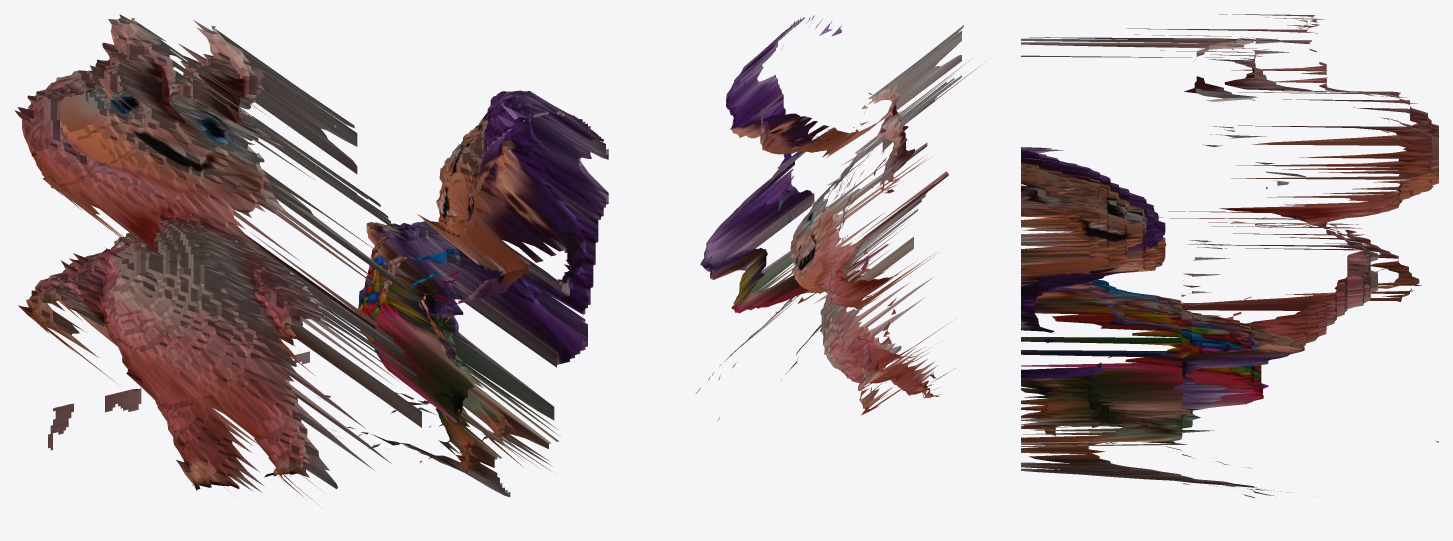
Rendered from frame_00094.glb.
3 views of the same model, side by side, from view 1: azimuth 30°, elevation 25°; view 2: azimuth 150°, elevation 25°; view 3: azimuth 270°, elevation 25° (orthographic). The views are drawn at different scales.
Visible parts, largest first — view 1: geometry_0; view 2: geometry_0; view 3: geometry_0.
Boxes of the visible parts, x1,y1,x2,y2 form: geometry_0: (14,14,608,507); geometry_0: (696,15,982,420); geometry_0: (1021,14,1438,498).
Bounding box in the file's own units: 0.1367 × 0.1796 × 0.16.
Materials: 1 (1 with a texture image).
